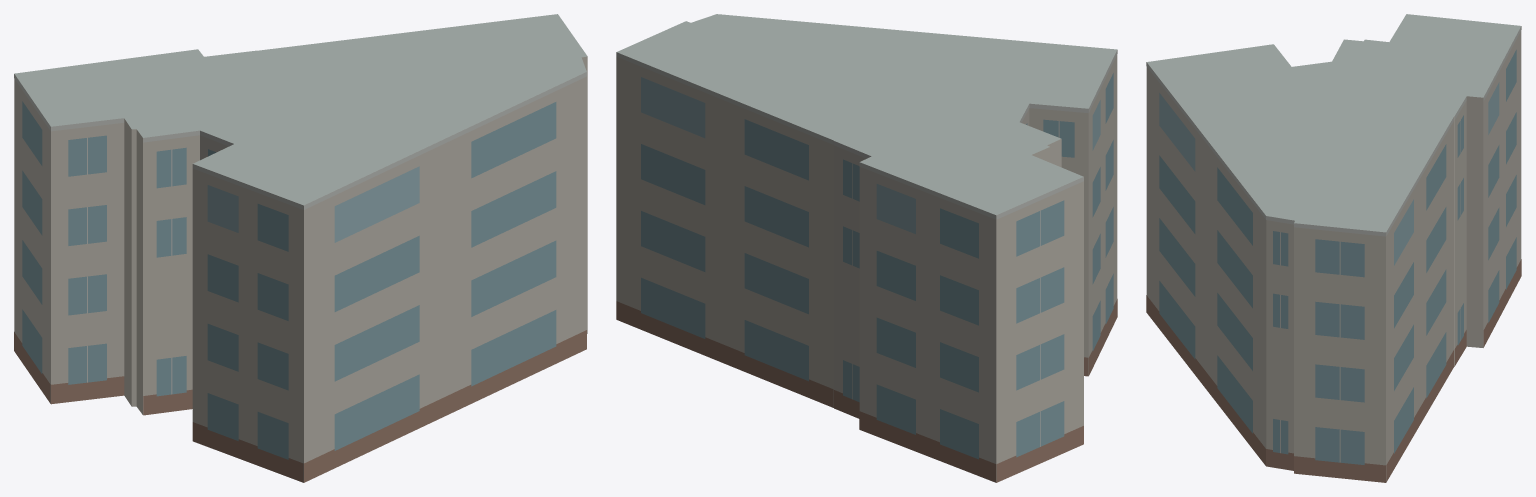
The model's file is survey-upis-32601745.glb.
3 renders of one model, left to right at view 1: azimuth 30°, elevation 25°; view 2: azimuth 150°, elevation 25°; view 3: azimuth 270°, elevation 25°, orthographic. The views are drawn at different scales.
Visible parts, largest first — view 1: survey-upis-32601745.tmp; view 2: survey-upis-32601745.tmp; view 3: survey-upis-32601745.tmp.
Boxes of the visible parts, left/top/right/bottom form: survey-upis-32601745.tmp: left=14, top=14, right=587, bottom=482; survey-upis-32601745.tmp: left=616, top=14, right=1117, bottom=482; survey-upis-32601745.tmp: left=1146, top=14, right=1521, bottom=482.
Bounding box in the file's own units: 27.43 × 14.66 × 19.89.
